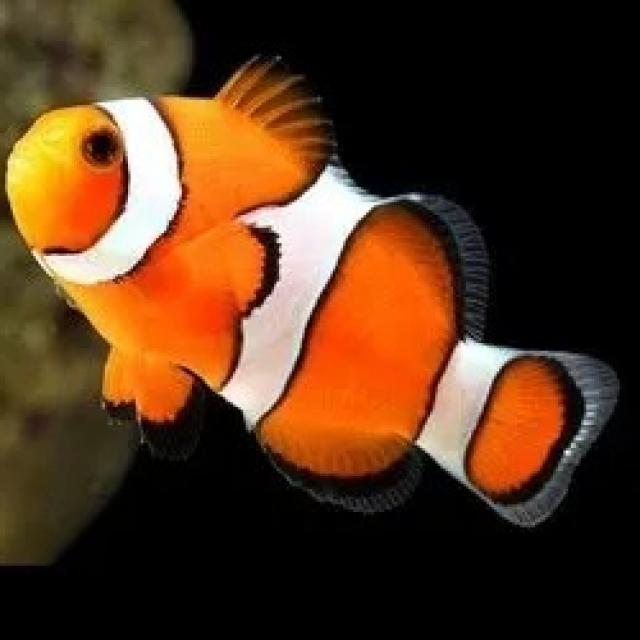ClownFish: (6, 62, 620, 534)
